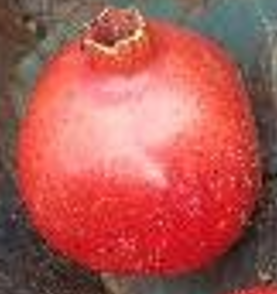pomegranate_A: (13, 6, 264, 279)
